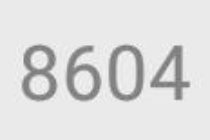TextView: (1, 1, 209, 139)
